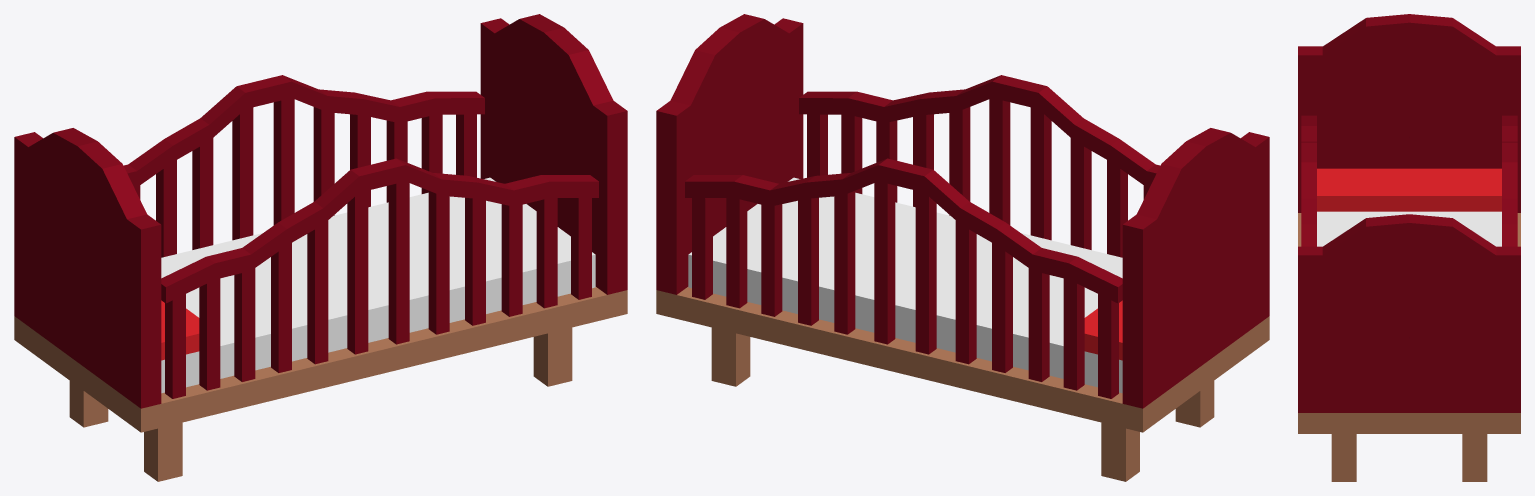
The model's file is berceau.fbx.
3 renders of one model, left to right at view 1: azimuth 30°, elevation 25°; view 2: azimuth 150°, elevation 25°; view 3: azimuth 270°, elevation 25°, orthographic. The views are drawn at different scales.
Parts seen in each view (by area): view 1: berceau; view 2: berceau; view 3: berceau.
Boxes of the visible parts, bbox=[...] form: berceau: bbox=[14, 14, 627, 481]; berceau: bbox=[656, 14, 1269, 481]; berceau: bbox=[1298, 14, 1520, 481].
Size of the model in its own units: 1858 by 1139 by 837.
